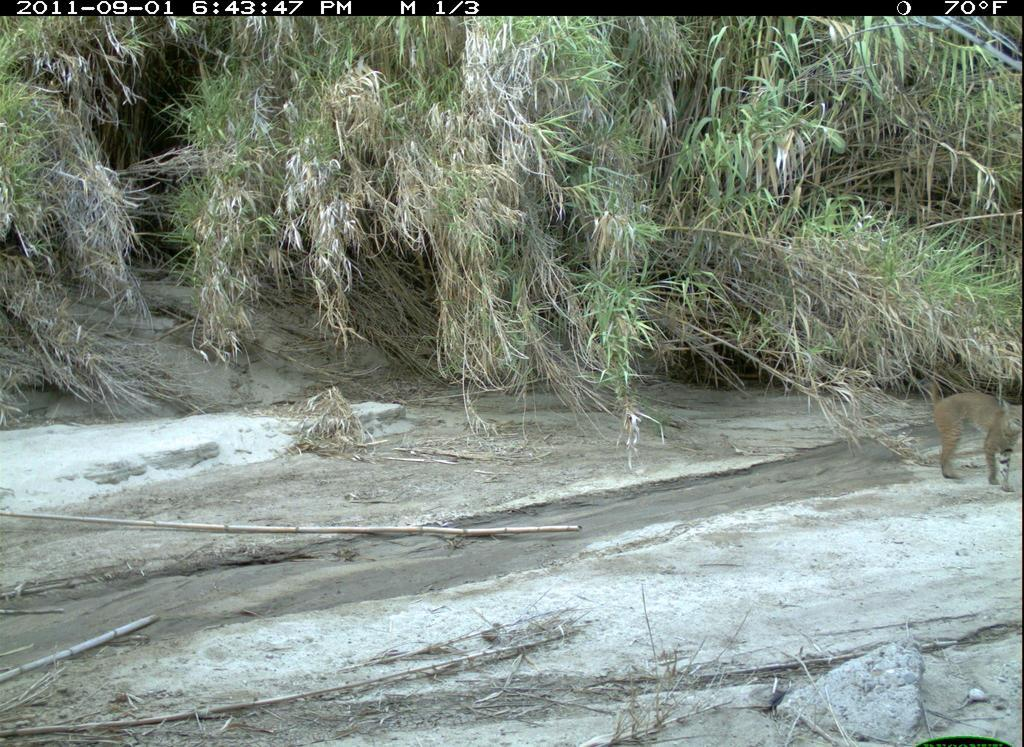bobcat: (918, 385, 1023, 501)
